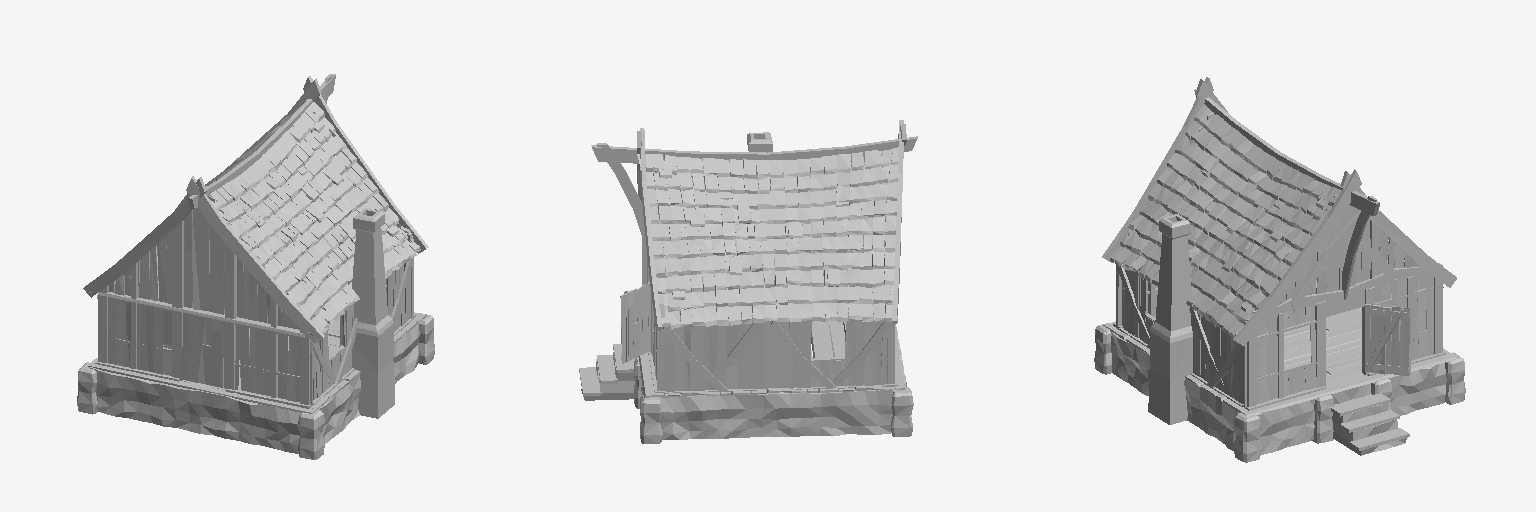
File: caba2.obj
3 views of the same model, side by side, from view 1: azimuth 30°, elevation 25°; view 2: azimuth 150°, elevation 25°; view 3: azimuth 270°, elevation 25° (orthographic).
Parts seen in each view (by area): view 1: Cube.016_Cube.032; view 2: Cube.016_Cube.032; view 3: Cube.016_Cube.032.
Part boxes in pixels (x1,y1,x2,y2): Cube.016_Cube.032: (77,74,434,459); Cube.016_Cube.032: (579,120,917,443); Cube.016_Cube.032: (1094,77,1465,462).
Size of the model in its own units: 26.46 by 20.36 by 26.27.